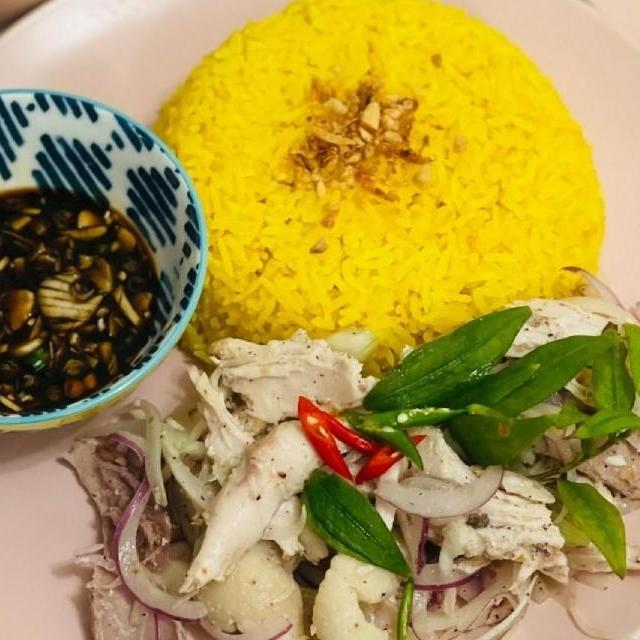com: (137, 0, 610, 371)
com ga: (45, 40, 640, 640)
rau ram: (340, 300, 631, 473), (506, 314, 640, 579), (295, 464, 416, 580)
thit ga: (172, 404, 381, 596), (179, 361, 337, 568), (391, 416, 576, 590), (197, 322, 388, 430), (499, 379, 640, 512), (184, 529, 315, 640), (488, 292, 635, 382), (301, 547, 413, 640)
